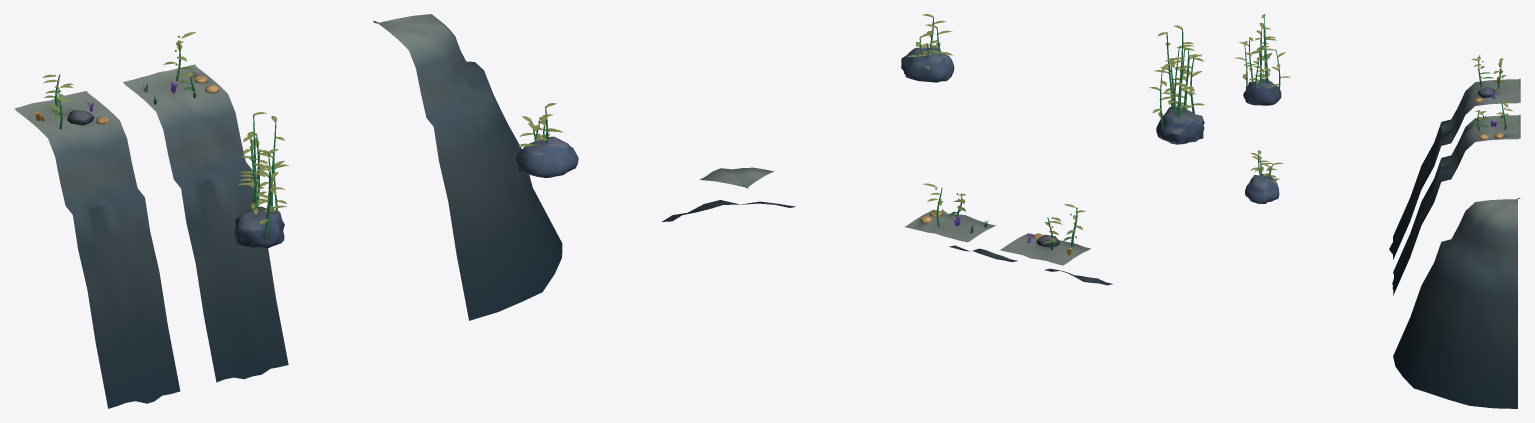
File: map_backdrop_1.glb
3 views of the same model, side by side, from view 1: azimuth 30°, elevation 25°; view 2: azimuth 150°, elevation 25°; view 3: azimuth 270°, elevation 25° (orthographic). The views are drawn at different scales.
Visible parts, largest first — view 1: Edge1, Corner, Edge2, Kelp, Outcrop; view 2: Kelp, Edge1, Edge2, Outcrop, Corner; view 3: Corner, Edge1, Edge2, Kelp, Outcrop.
Part boxes in pixels (x1,y1,x2,y2): Edge1: [14, 74, 180, 408]; Corner: [373, 14, 562, 320]; Edge2: [123, 32, 288, 382]; Kelp: [234, 112, 288, 248]; Outcrop: [515, 103, 578, 177]; Kelp: [1149, 25, 1204, 144]; Edge1: [999, 204, 1112, 285]; Edge2: [904, 183, 1017, 261]; Outcrop: [901, 14, 954, 82]; Corner: [662, 167, 795, 221]; Corner: [1393, 198, 1520, 408]; Edge1: [1389, 55, 1520, 259]; Edge2: [1392, 100, 1520, 295]; Kelp: [1234, 14, 1290, 105]; Outcrop: [1245, 150, 1283, 203].
Size of the model in its own units: 14.4 by 9.43 by 10.1.
